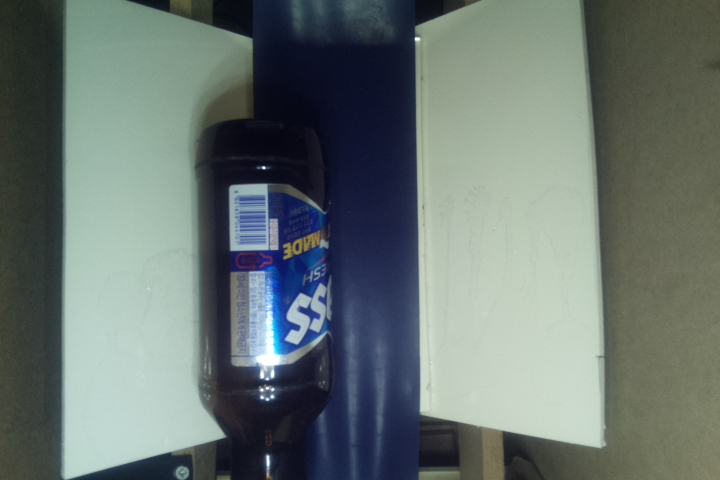makju: (195, 118, 333, 480)
